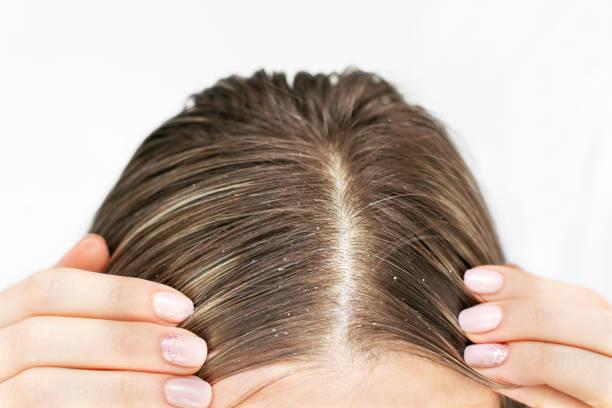dandruff: (268, 321, 294, 343), (181, 179, 212, 191), (396, 170, 408, 198), (383, 268, 398, 283), (416, 275, 431, 288), (276, 259, 285, 275), (250, 252, 258, 266)
